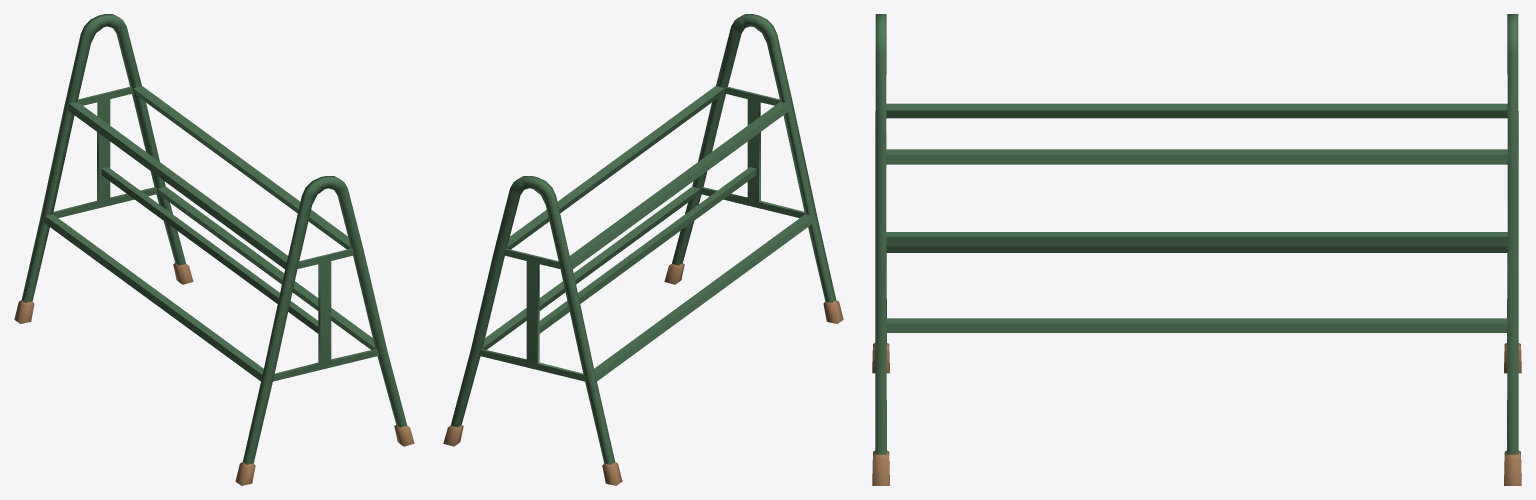
File: SM_Prop_DodgeballRack_01.obj
3 renders of one model, left to right at view 1: azimuth 30°, elevation 25°; view 2: azimuth 150°, elevation 25°; view 3: azimuth 270°, elevation 25°, orthographic. The views are drawn at different scales.
Visible parts, largest first — view 1: SM_Prop_DodgeballRack_01_Mat_SwatchOverlay_AtlasSchool_01_Inst; view 2: SM_Prop_DodgeballRack_01_Mat_SwatchOverlay_AtlasSchool_01_Inst; view 3: SM_Prop_DodgeballRack_01_Mat_SwatchOverlay_AtlasSchool_01_Inst.
Boxes of the visible parts, x1,y1,x2,y2 form: SM_Prop_DodgeballRack_01_Mat_SwatchOverlay_AtlasSchool_01_Inst: [14, 14, 414, 485]; SM_Prop_DodgeballRack_01_Mat_SwatchOverlay_AtlasSchool_01_Inst: [443, 14, 843, 485]; SM_Prop_DodgeballRack_01_Mat_SwatchOverlay_AtlasSchool_01_Inst: [872, 14, 1521, 485].
Size of the model in its own units: 1.65 by 2.59 by 3.74.
1 material, 1 textured.
